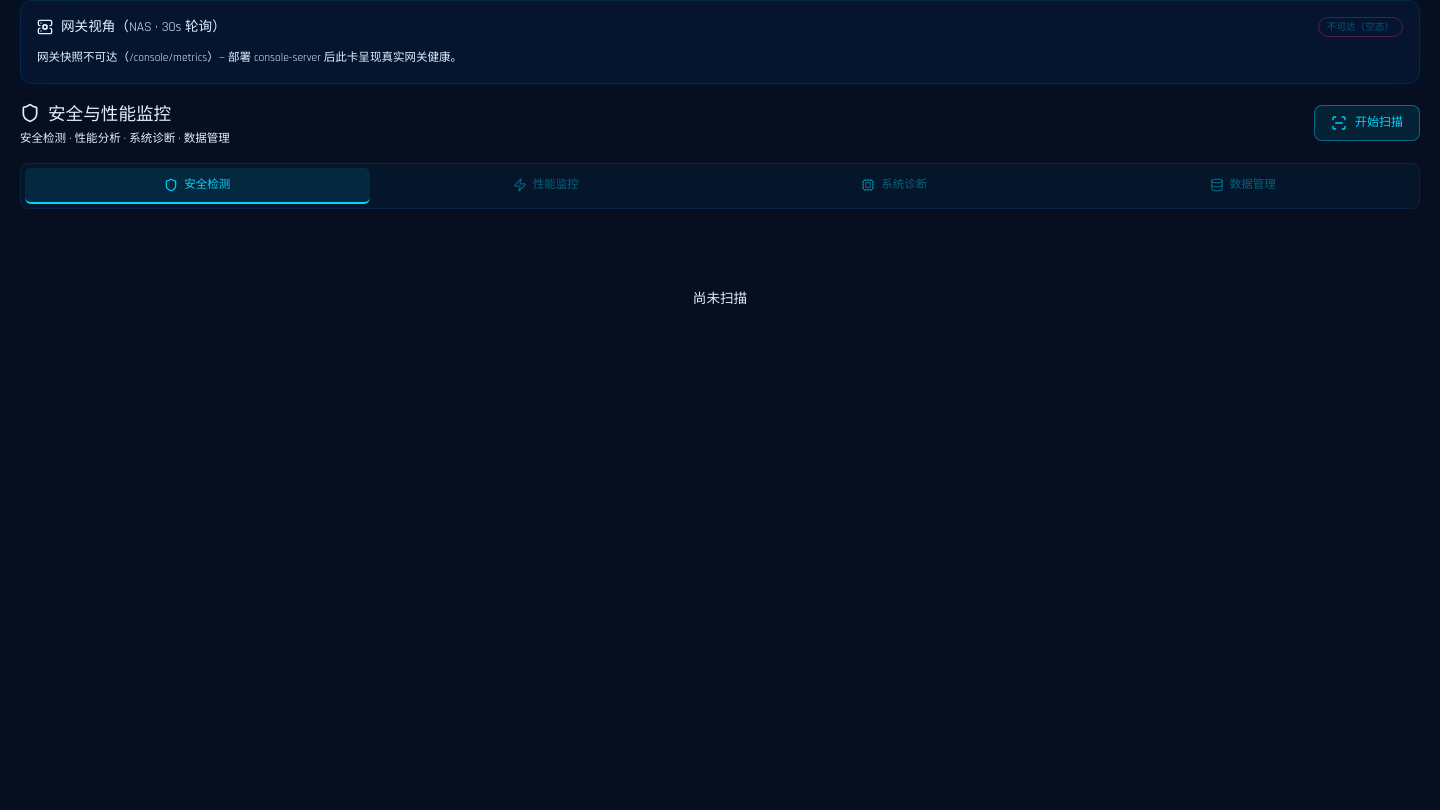
it: SecurityMonitor › switches to diagnostics tab
Click the button "开始扫描" at (1367, 124), box top-left (1314, 106), bottom-right (1420, 142)
Wait 2000 ms
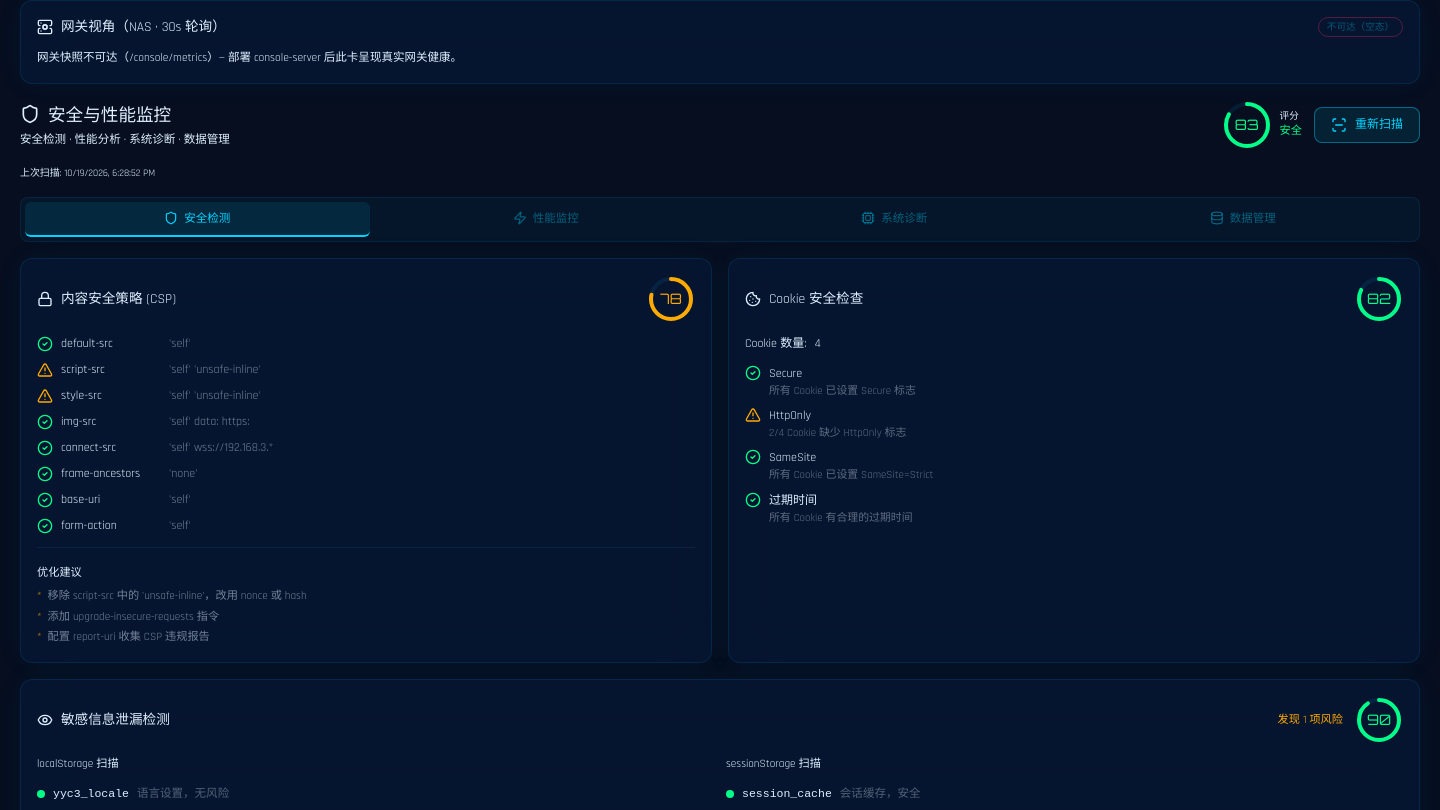
Click the button "系统诊断" at (894, 219), box top-left (722, 202), bottom-right (1066, 237)
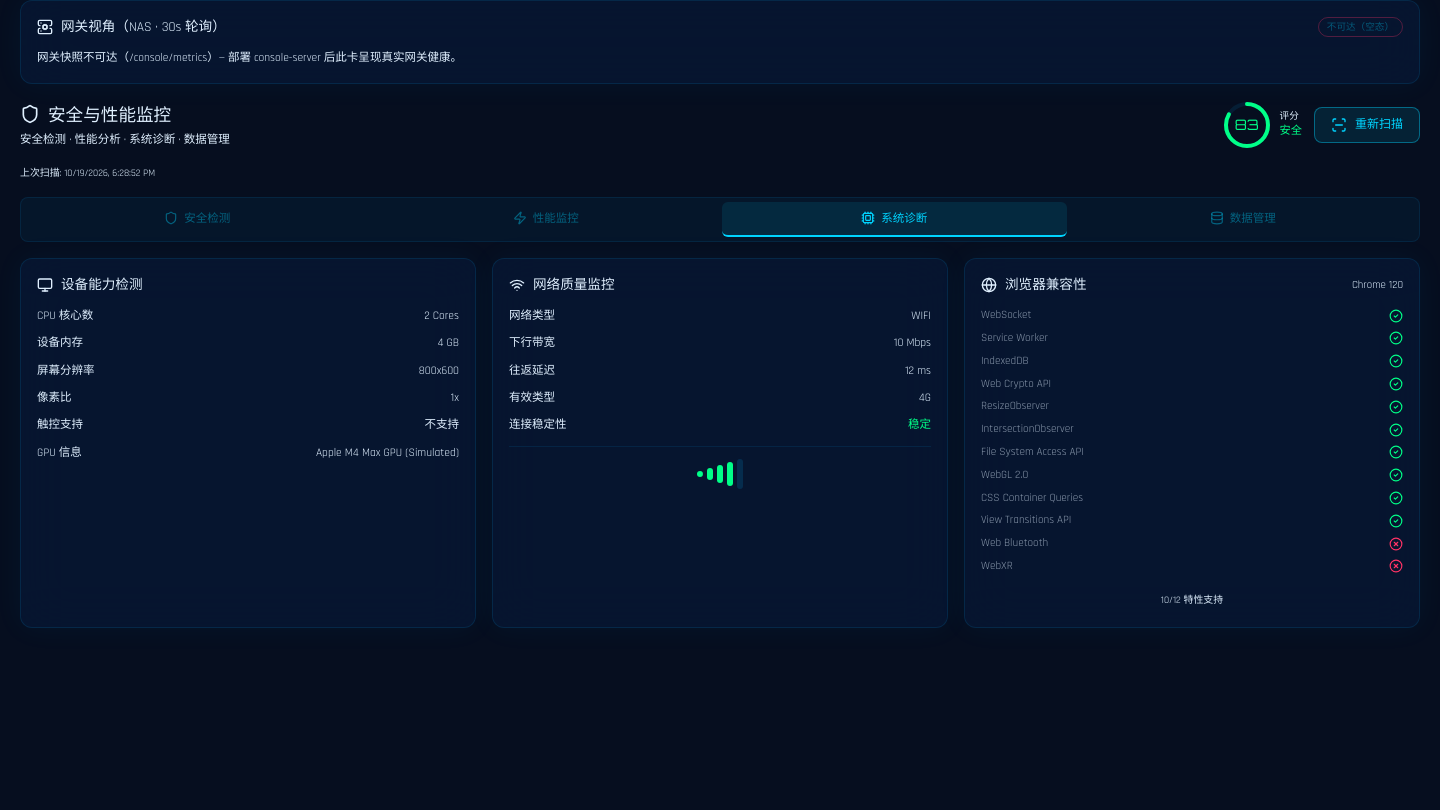
Expected: the text "设备能力检测" is shown, top-left (61, 275), bottom-right (143, 295)
Expected: the text "网络质量监控" is shown, top-left (533, 275), bottom-right (615, 295)
Expected: the text "浏览器兼容性" is shown, top-left (1005, 275), bottom-right (1087, 295)
